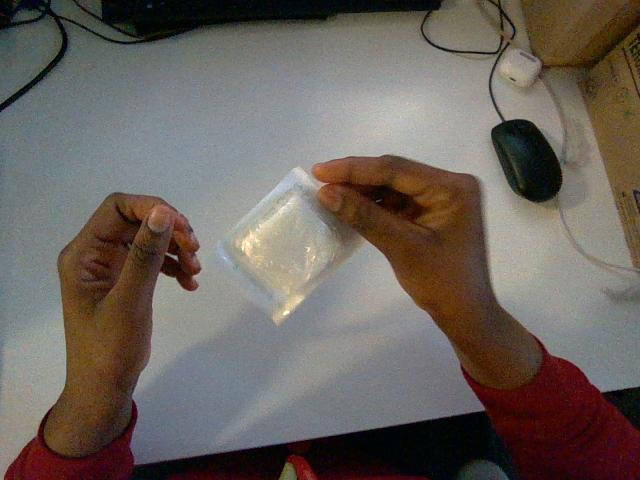gauze: (217, 167, 362, 323)
